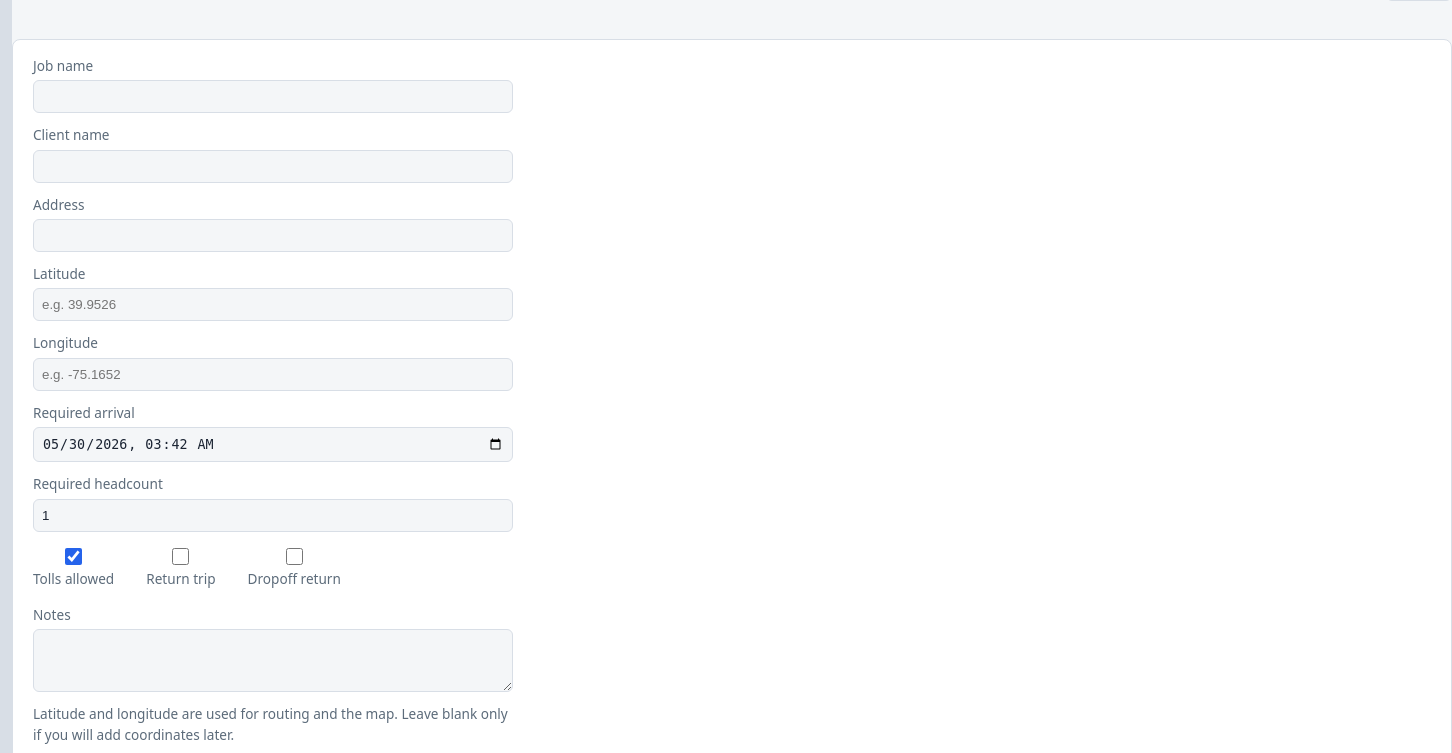
JobFormPage › requires at least one role before creating
Type "New Site" into the field labelled "Job name" at (273, 97), box [33,80,513,113]
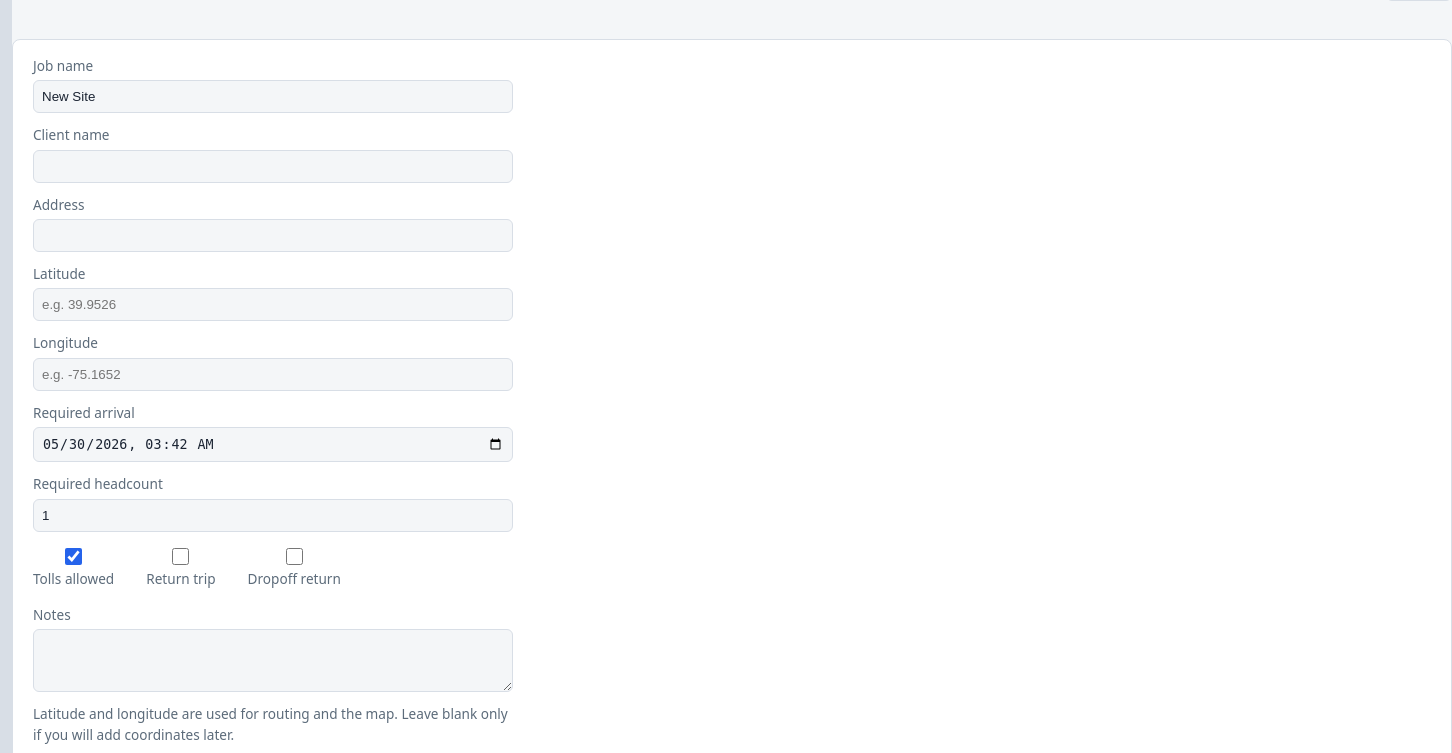
Type "100 Market St" into the field labelled "Address" at (273, 236), box [33,219,513,252]
(page scrolled)
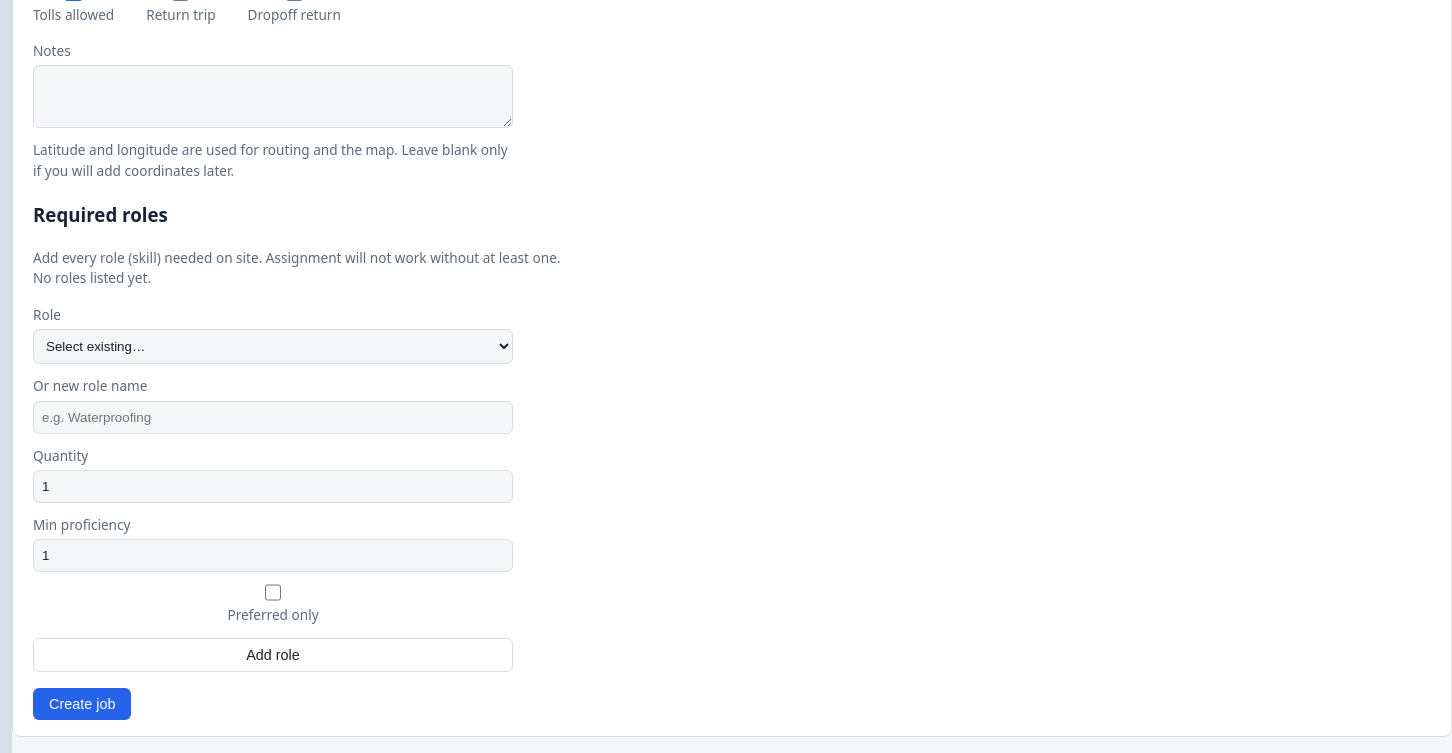
Click the button "Create job" at (82, 704), box [33,688,131,720]
(page scrolled)
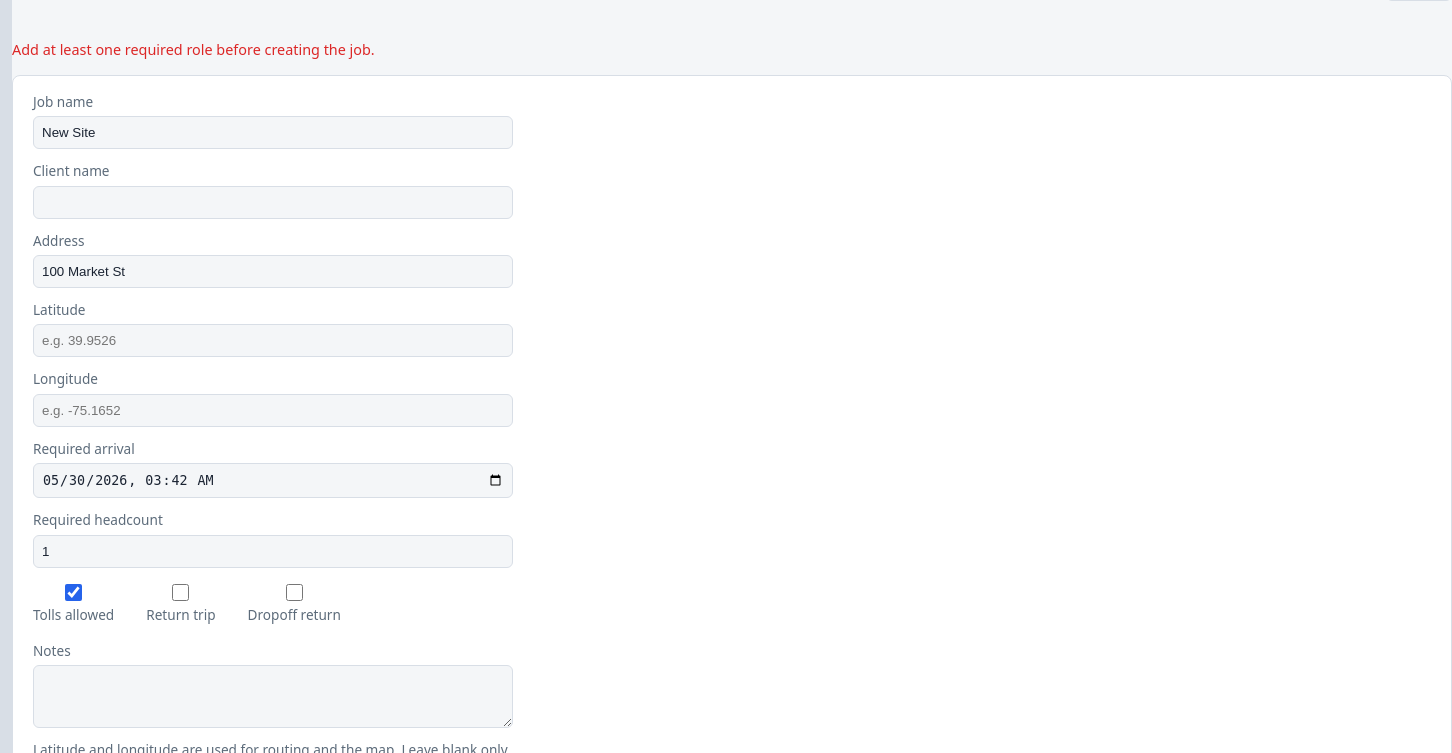
Expected: the text "Add at least one required role before creating the job." is shown, [12,40,375,59]
